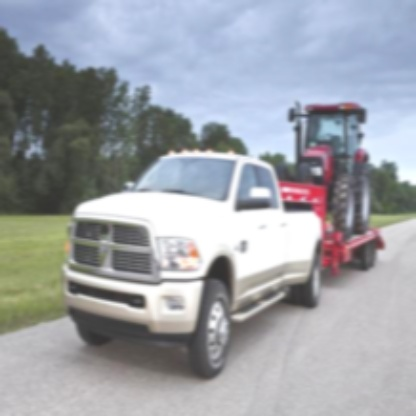Vehicle: (59, 142, 324, 379)
